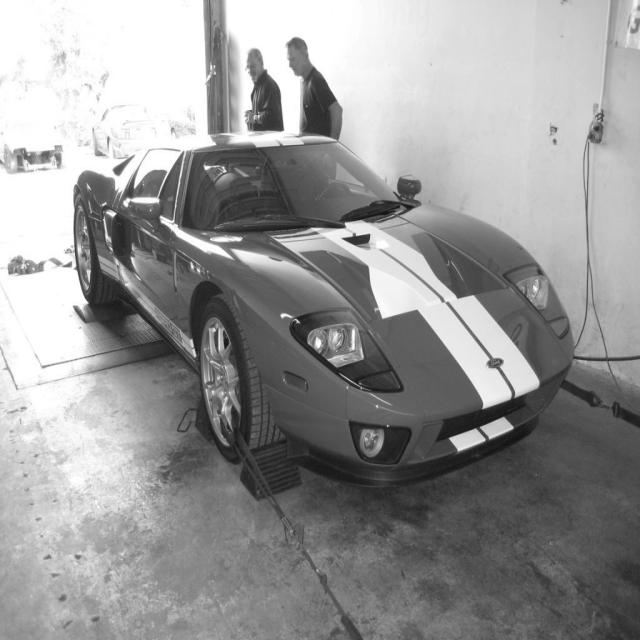car: (73, 129, 575, 487), (91, 103, 175, 159)
